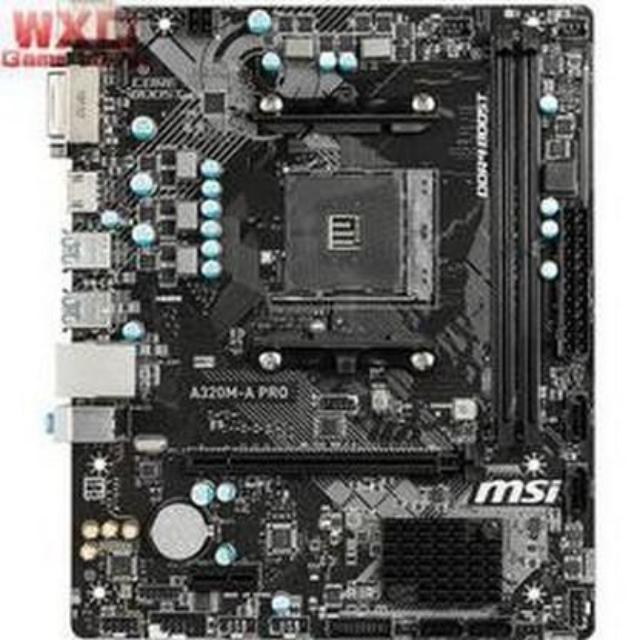Mainboard: (32, 0, 600, 640)
